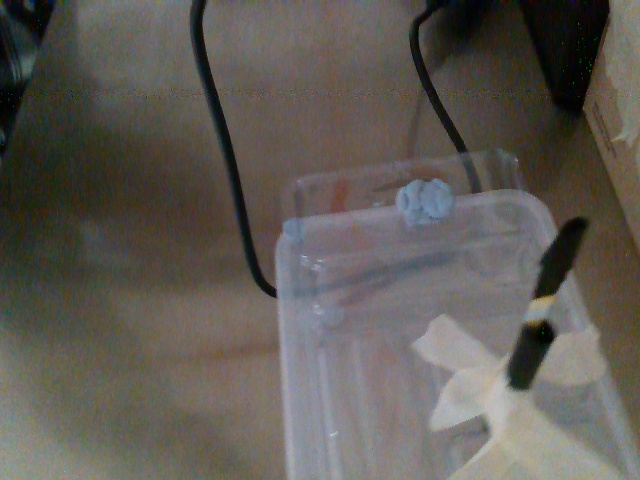test_strip: (523, 212, 586, 328)
